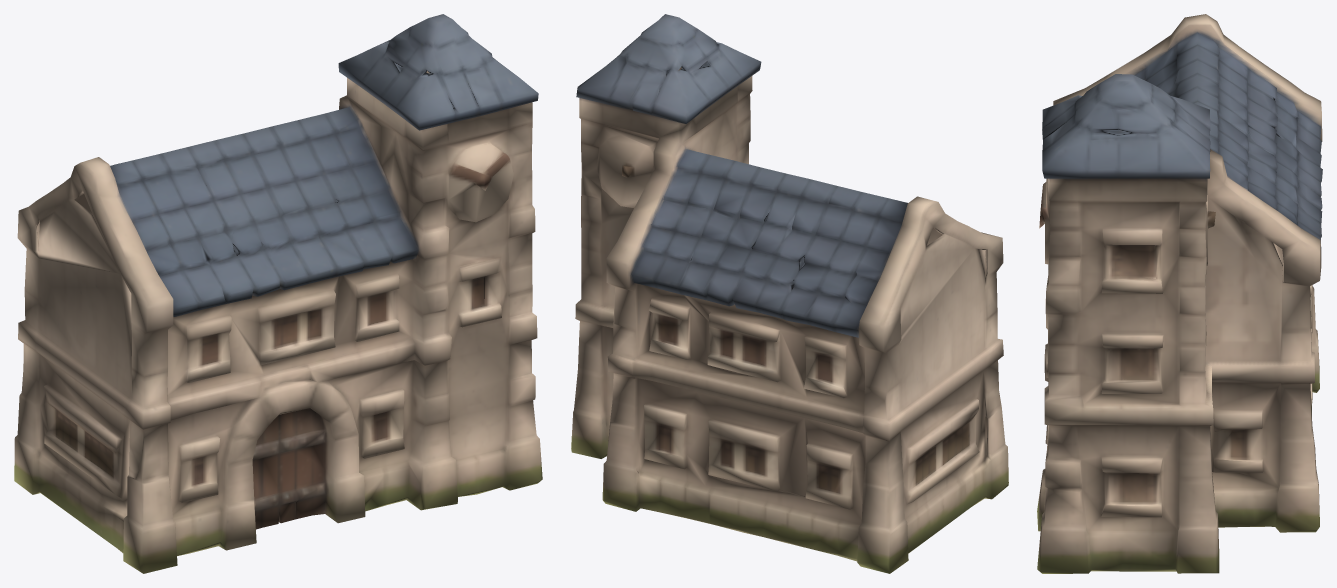
The model's file is town_hall.glb.
3 renders of one model, left to right at view 1: azimuth 30°, elevation 25°; view 2: azimuth 150°, elevation 25°; view 3: azimuth 270°, elevation 25°, orthographic. The views are drawn at different scales.
Visible parts, largest first — view 1: geometry_0.001; view 2: geometry_0.001; view 3: geometry_0.001.
Boxes of the visible parts, x1,y1,x2,y2 form: geometry_0.001: (14,14,542,573); geometry_0.001: (571,14,1008,573); geometry_0.001: (1037,14,1322,573).
Bounding box in the file's own units: 1.83 × 1.99 × 1.11.
Materials: 1 (1 with a texture image).
